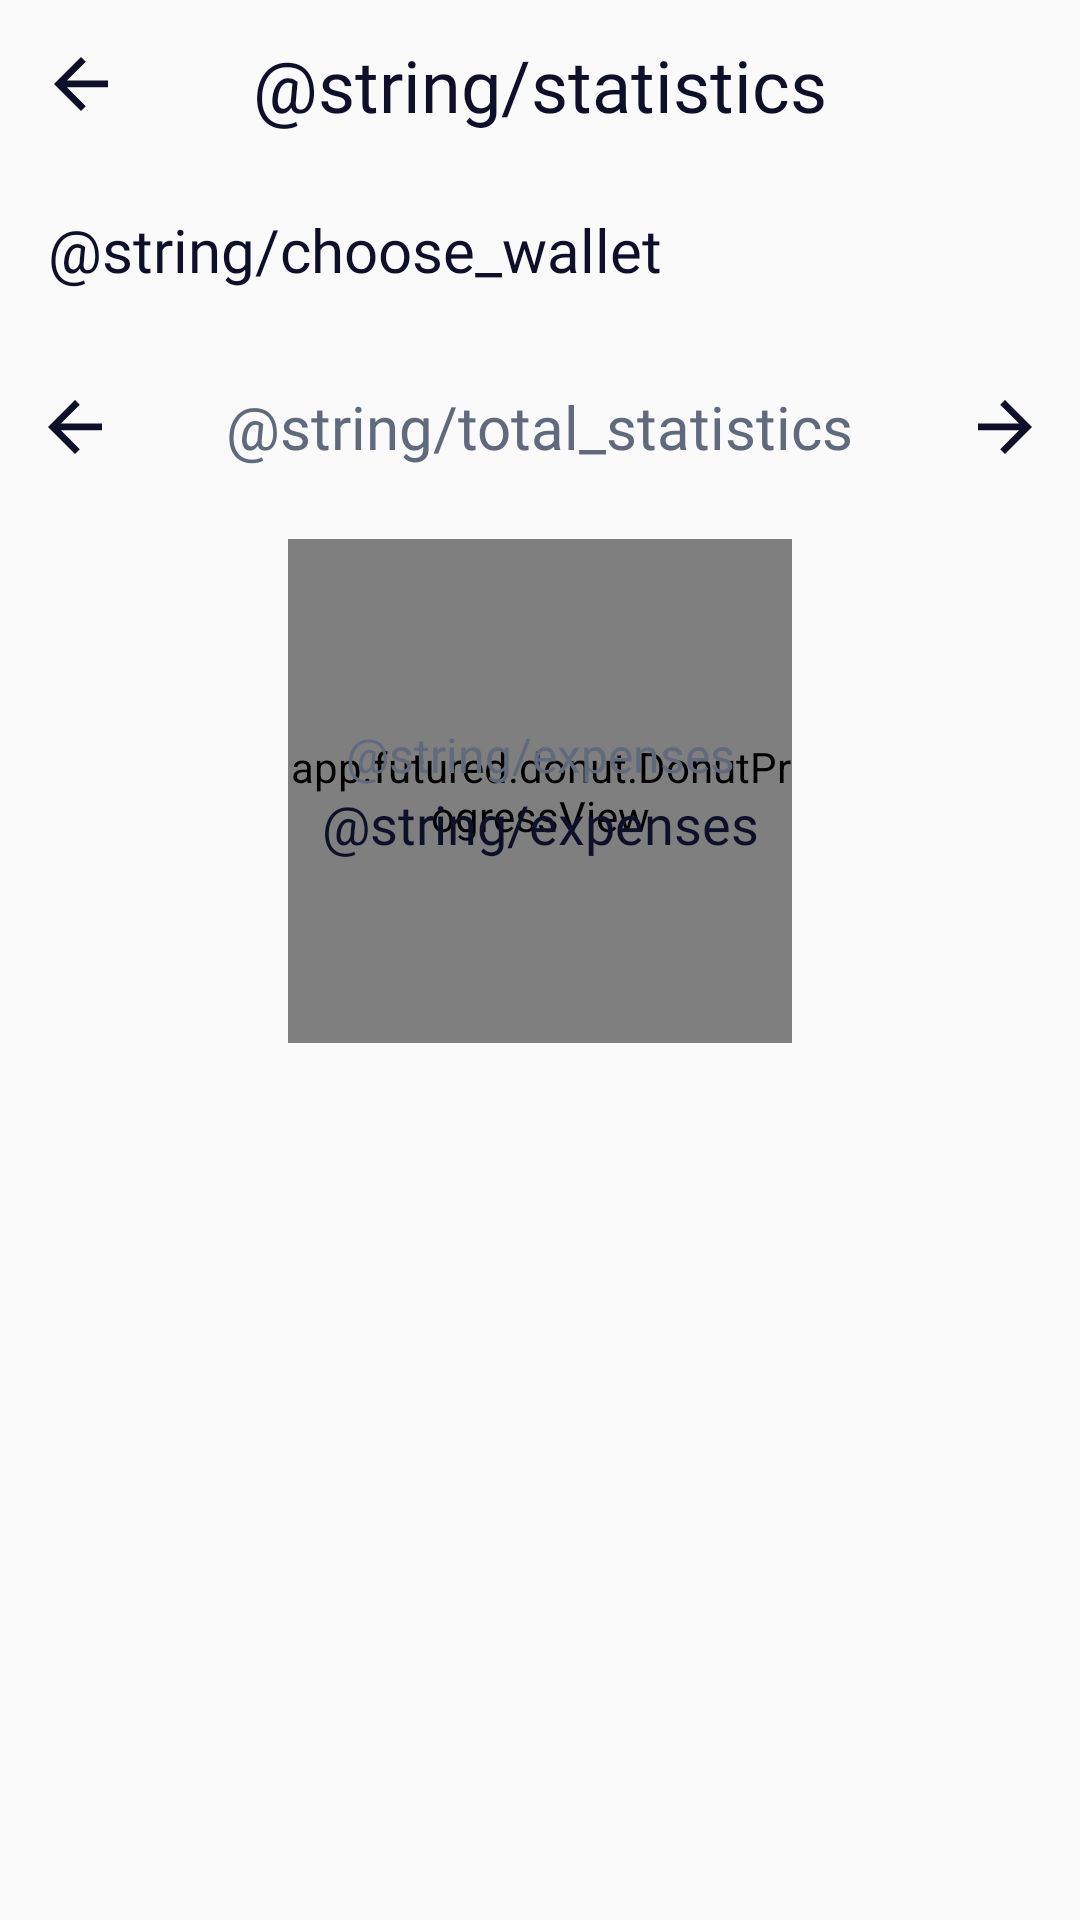

Where icons sit on this 1080x1920 app screen, as (x1, y1, x2, y2):
arrow back: (48, 400, 102, 454)
arrow next: (978, 400, 1032, 454)
